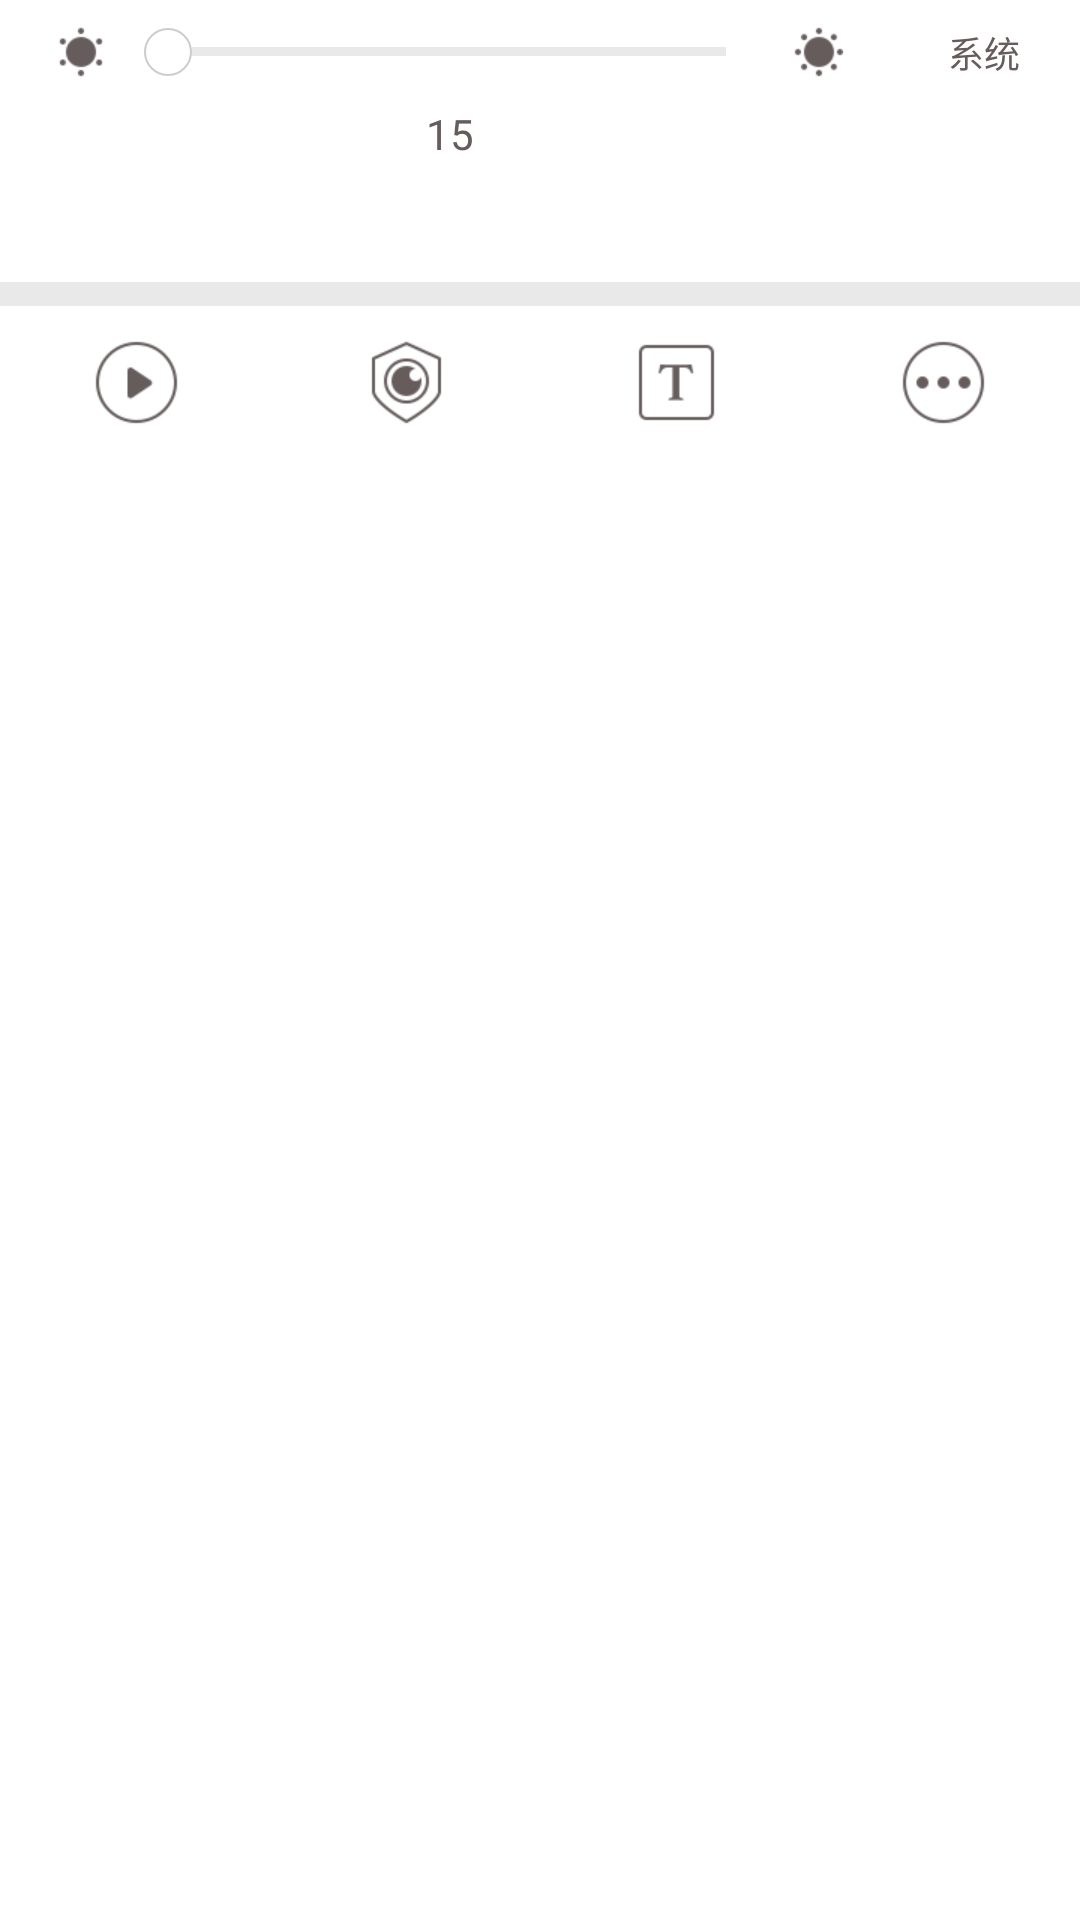

Point at icon controls on the screen. Image size 1080 × 1920, points as [x,y].
brightness minus: [81,52]
brightness plus: [819,52]
